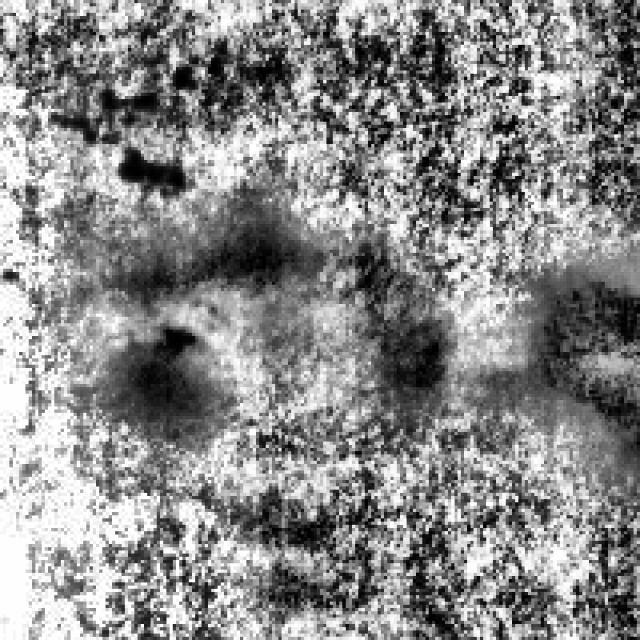Scratches: (509, 259, 637, 458), (96, 211, 333, 304), (105, 320, 208, 410), (371, 314, 451, 394)
